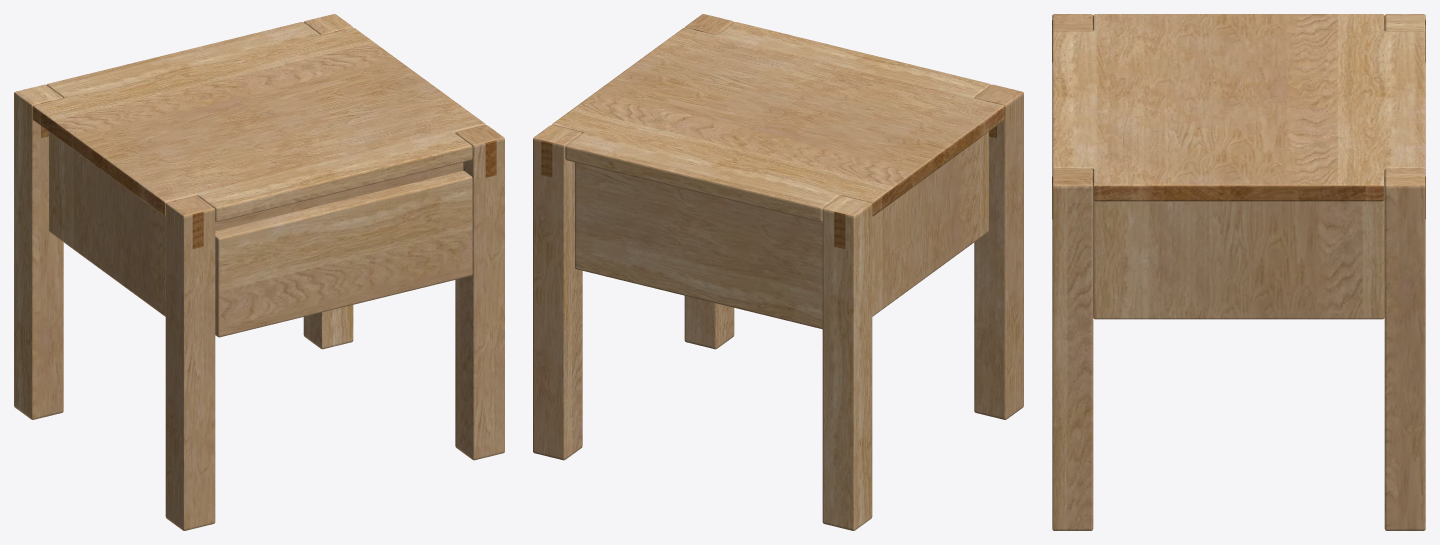
The model's file is abo-B07K7KBPHN.glb.
The picture shows the model from 3 angles, left to right: view 1: azimuth 30°, elevation 25°; view 2: azimuth 150°, elevation 25°; view 3: azimuth 270°, elevation 25°; orthographic projection. The views are drawn at different scales.
Bounding box in the file's own units: 0.48 × 0.45 × 0.44.
Materials: 1 (1 with a texture image).
